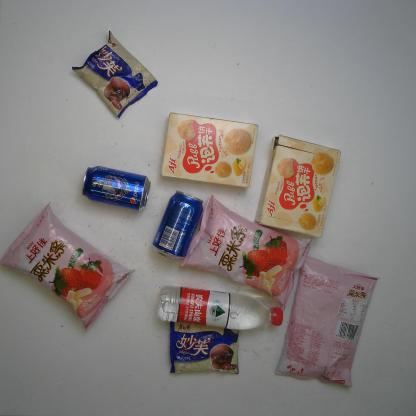Dessert: (255, 134, 340, 236), (158, 109, 259, 190), (69, 31, 160, 119), (166, 316, 244, 378)
Drink: (155, 284, 283, 332), (151, 186, 208, 259), (79, 160, 155, 212)
Puffed Food: (0, 202, 134, 334), (180, 196, 310, 307), (272, 255, 380, 388)
